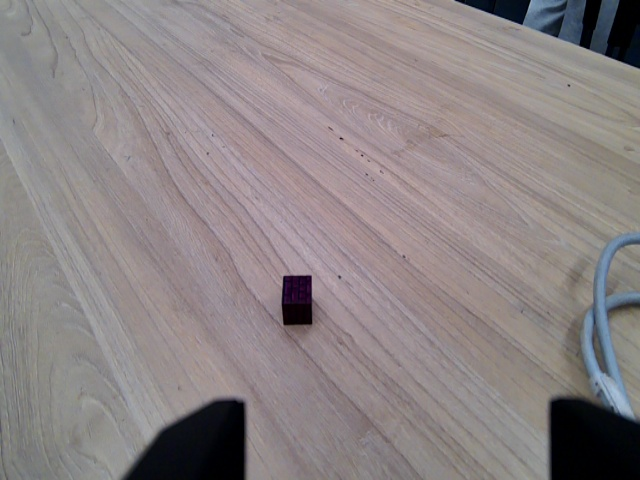brick: (277, 269, 319, 329)
